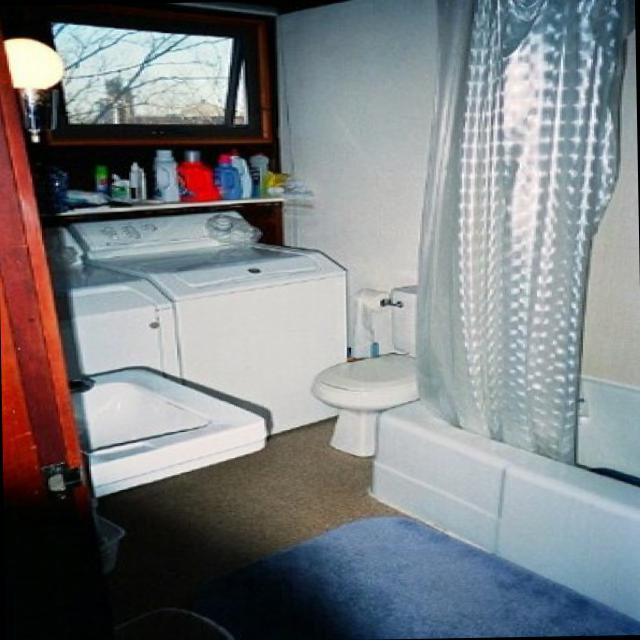2001: (55, 23, 244, 122)
bath crop: (362, 370, 637, 623)
bottle crop: (210, 151, 243, 195), (155, 147, 178, 196), (128, 161, 141, 197)
ceiling beam: (194, 0, 339, 15)
cistern: (376, 283, 416, 355)
curtain crop: (415, 0, 623, 462)
floor -X: (4, 365, 635, 640)
lamp crop: (6, 34, 58, 143)
rug -partially obscured-: (223, 518, 639, 637)
shelf crop: (62, 195, 284, 211)
toilet paper: (356, 286, 388, 333)
tumble dryer: (35, 224, 175, 376)
wall clock: (276, 0, 636, 444), (0, 2, 289, 400)
washbasin crop: (70, 364, 264, 494)
washing machine crop: (65, 210, 346, 436)
wc chair crop: (308, 352, 418, 457)
